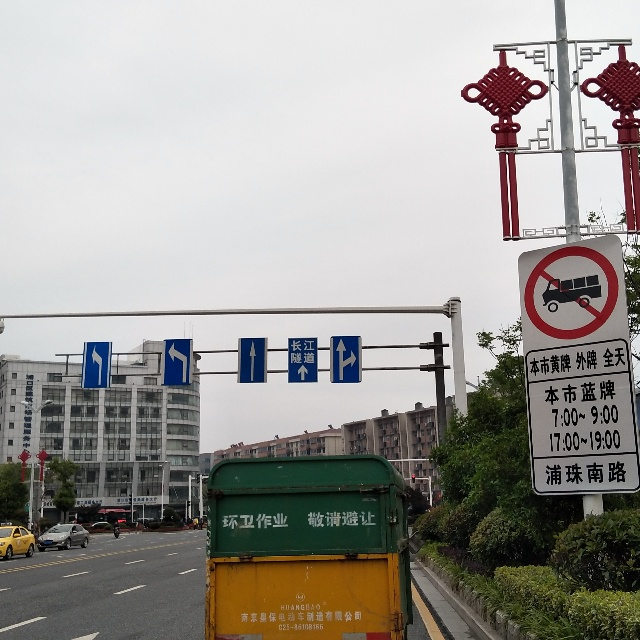left: (159, 338, 194, 385), (80, 341, 112, 388)
straight: (238, 337, 268, 383)
